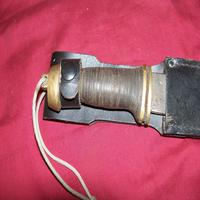knife: (36, 45, 193, 136)
